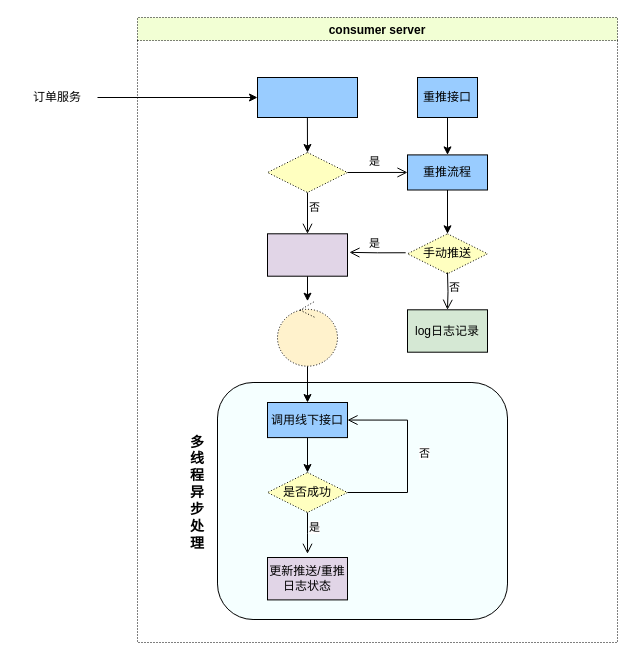
Image size: 635x660. Some labels were removed from this diagram. The shapes that lost their labels are listed below. From the top down, each one's centre as x and y in pixels, then its label:
At point 307,97: "监听订单消息".
At point 307,172: "是否已推送".
At point 307,254: "记录推送/重推日志".
At point 307,333: "商家号 路由".
